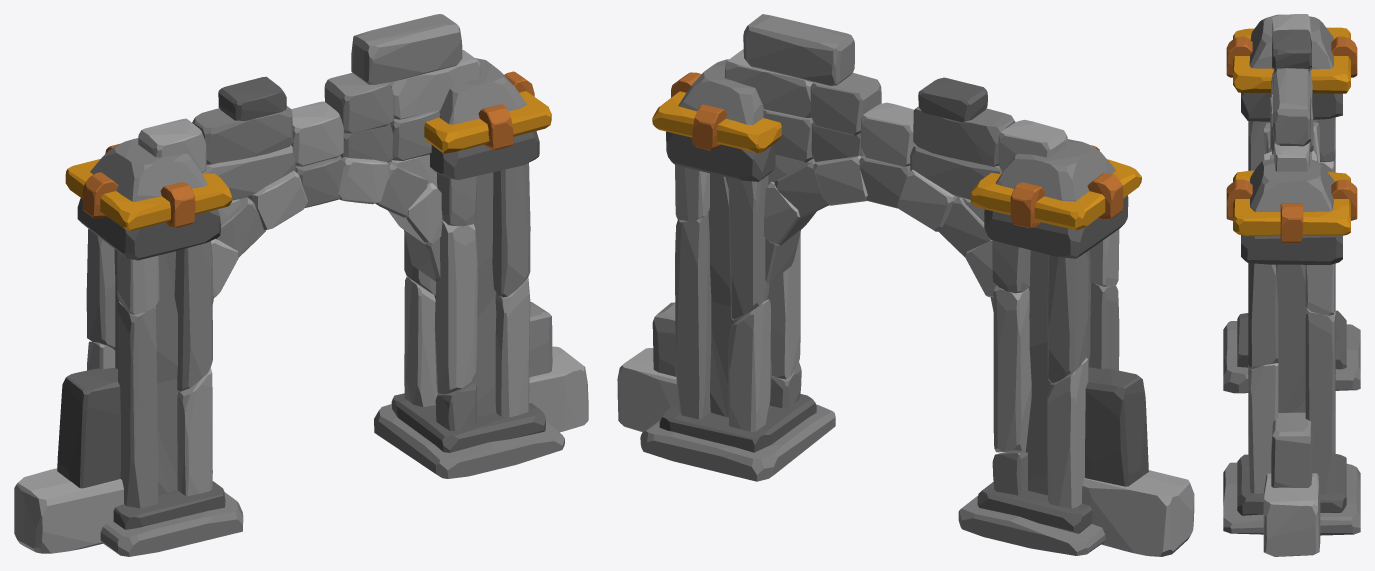
Rendered from Wall04.fbx.
3 renders of one model, left to right at view 1: azimuth 30°, elevation 25°; view 2: azimuth 150°, elevation 25°; view 3: azimuth 270°, elevation 25°, orthographic. The views are drawn at different scales.
Visible parts, largest first — view 1: LOD0; view 2: LOD0; view 3: LOD0.
Boxes of the visible parts, x1,y1,x2,y2 form: LOD0: (14,14,588,556); LOD0: (617,14,1194,556); LOD0: (1223,14,1360,556).
Size of what is drawn, in the model's own units: 668 by 156 by 495.
